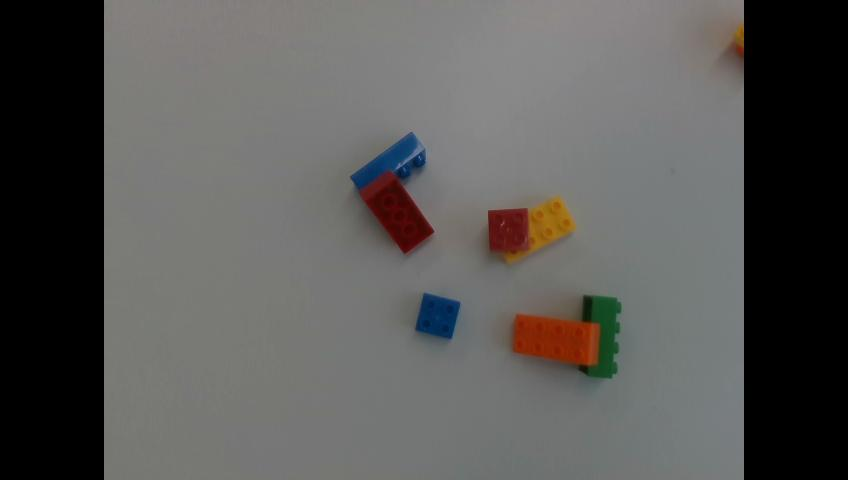2x2_blue: (416, 294, 459, 336)
2x2_red: (488, 207, 531, 251)
4x2_blue: (351, 131, 427, 186)
4x2_green: (587, 294, 621, 375)
4x2_orange: (515, 314, 599, 363)
4x2_red: (360, 171, 433, 251)
4x2_yellow: (490, 195, 576, 260)
